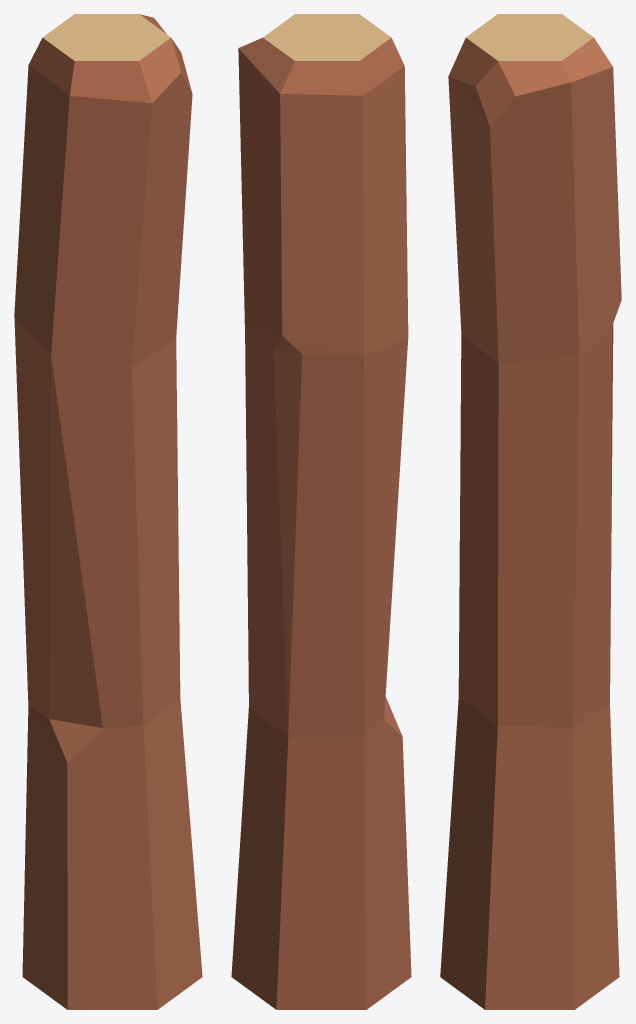
File: Fence_Bar.fbx
3 renders of one model, left to right at view 1: azimuth 30°, elevation 25°; view 2: azimuth 150°, elevation 25°; view 3: azimuth 270°, elevation 25°, orthographic.
Parts seen in each view (by area): view 1: Fence_Bar; view 2: Fence_Bar; view 3: Fence_Bar.
Part boxes in pixels (x1,y1,x2,y2): Fence_Bar: [14, 14, 202, 1009]; Fence_Bar: [231, 14, 411, 1009]; Fence_Bar: [440, 14, 621, 1009].
Bounding box in the file's own units: 0.1898 × 1.2 × 0.2115.
